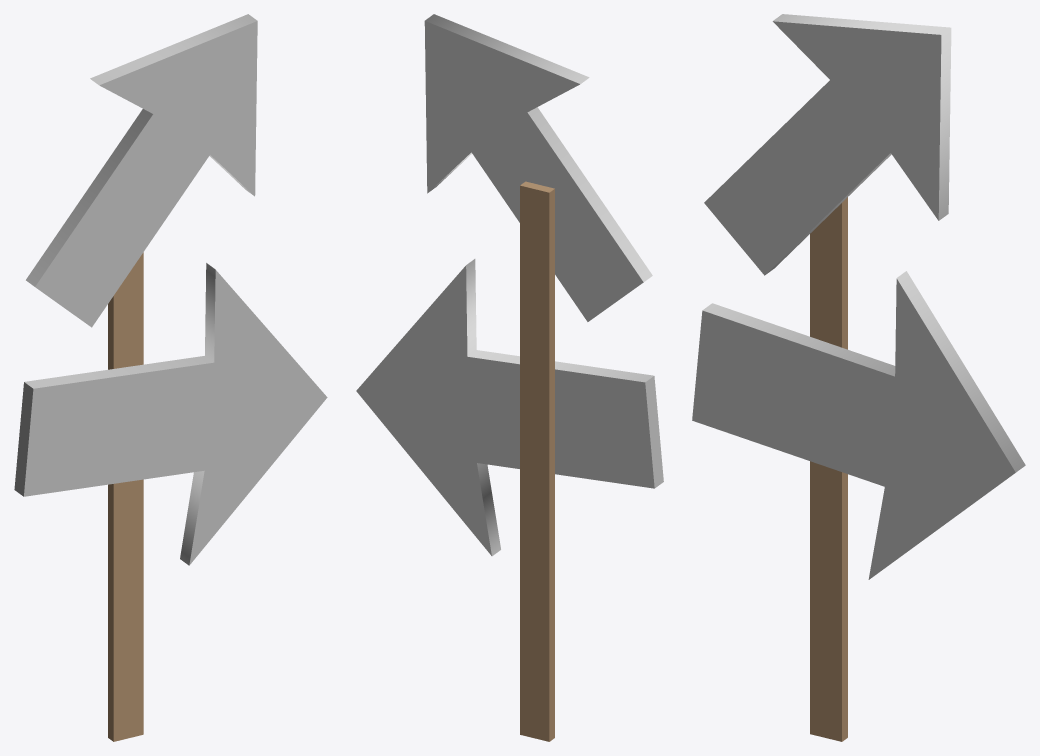
The model's file is Park_Pijl_UP-DOWN.fbx.
3 views of the same model, side by side, from view 1: azimuth 30°, elevation 25°; view 2: azimuth 150°, elevation 25°; view 3: azimuth 330°, elevation 25° (orthographic). The views are drawn at different scales.
Parts seen in each view (by area): view 1: polySurface711; view 2: polySurface711; view 3: polySurface711.
Part boxes in pixels (x1,y1,x2,y2): polySurface711: (14,14,327,741); polySurface711: (356,14,663,741); polySurface711: (692,14,1025,741).
Bounding box in the file's own units: 5.32 × 11.66 × 0.4881.
